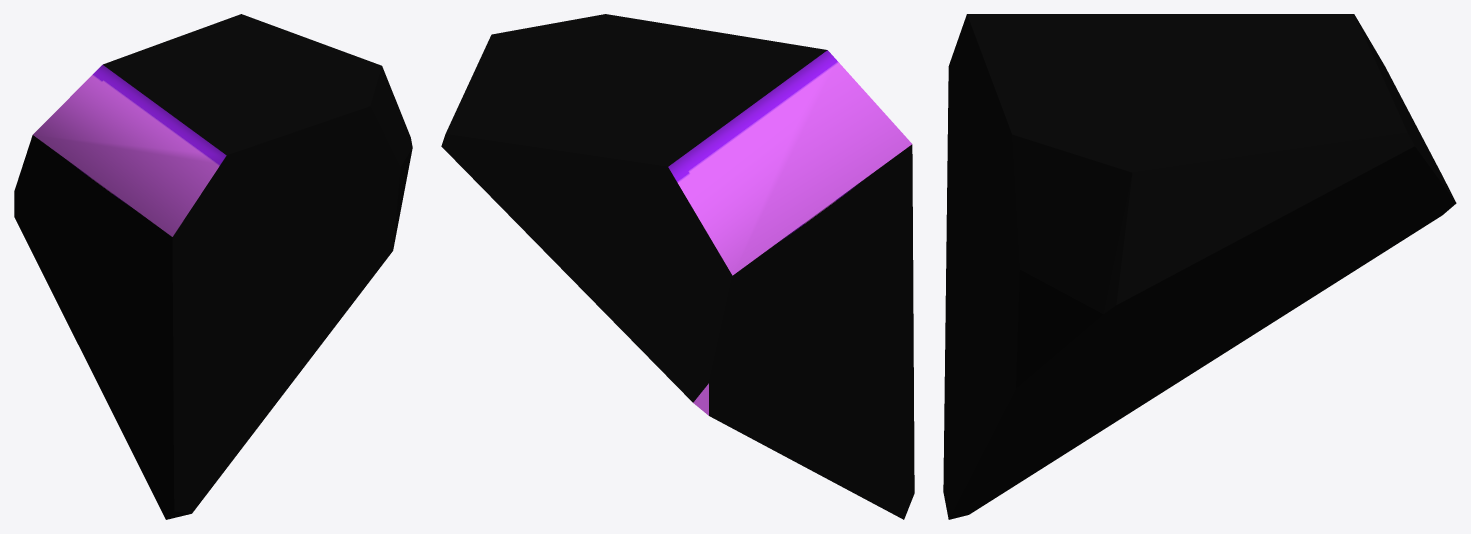
File: blockParticle_12.obj
3 views of the same model, side by side, from view 1: azimuth 30°, elevation 25°; view 2: azimuth 150°, elevation 25°; view 3: azimuth 270°, elevation 25° (orthographic). The views are drawn at different scales.
Parts seen in each view (by area): view 1: 立方体_cell.014; view 2: 立方体_cell.014; view 3: 立方体_cell.014.
Boxes of the visible parts, x1,y1,x2,y2 form: 立方体_cell.014: [14, 14, 412, 519]; 立方体_cell.014: [441, 14, 914, 519]; 立方体_cell.014: [943, 14, 1456, 519].
Size of the model in its own units: 1.03 by 1.18 by 1.01.
2 materials, 2 textured.
